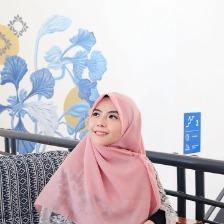HijabSyar-i: (34, 87, 156, 224)
